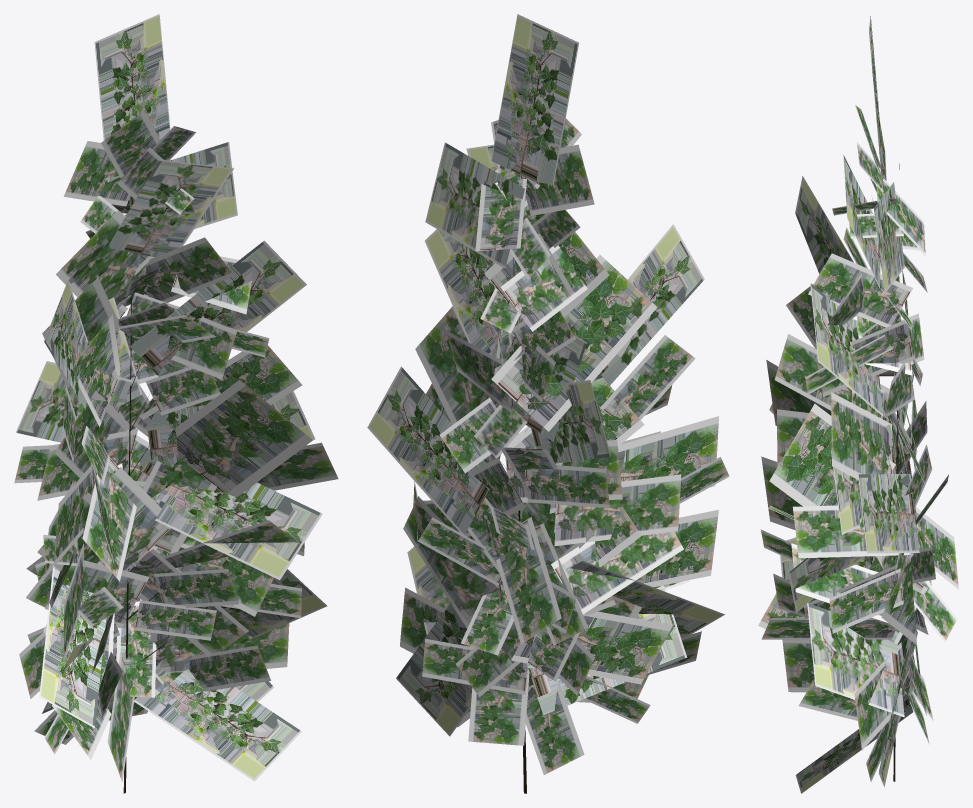
Rendered from Ivy4.fbx.
3 renders of one model, left to right at view 1: azimuth 30°, elevation 25°; view 2: azimuth 150°, elevation 25°; view 3: azimuth 270°, elevation 25°, orthographic. The views are drawn at different scales.
Parts seen in each view (by area): view 1: Ivy4; view 2: Ivy4; view 3: Ivy4.
Part boxes in pixels (x1,y1,x2,y2): Ivy4: (14, 14, 338, 793); Ivy4: (367, 14, 729, 793); Ivy4: (758, 16, 958, 793).
Bounding box in the file's own units: 221 × 516 × 123.
